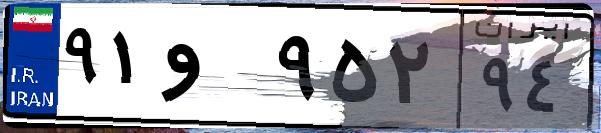1: (110, 28, 158, 98)
2: (385, 28, 445, 110)
4: (525, 38, 570, 115)
5: (330, 28, 385, 110)
9: (270, 28, 330, 110), (57, 26, 110, 100), (475, 38, 525, 113)
و: (158, 20, 270, 120)
